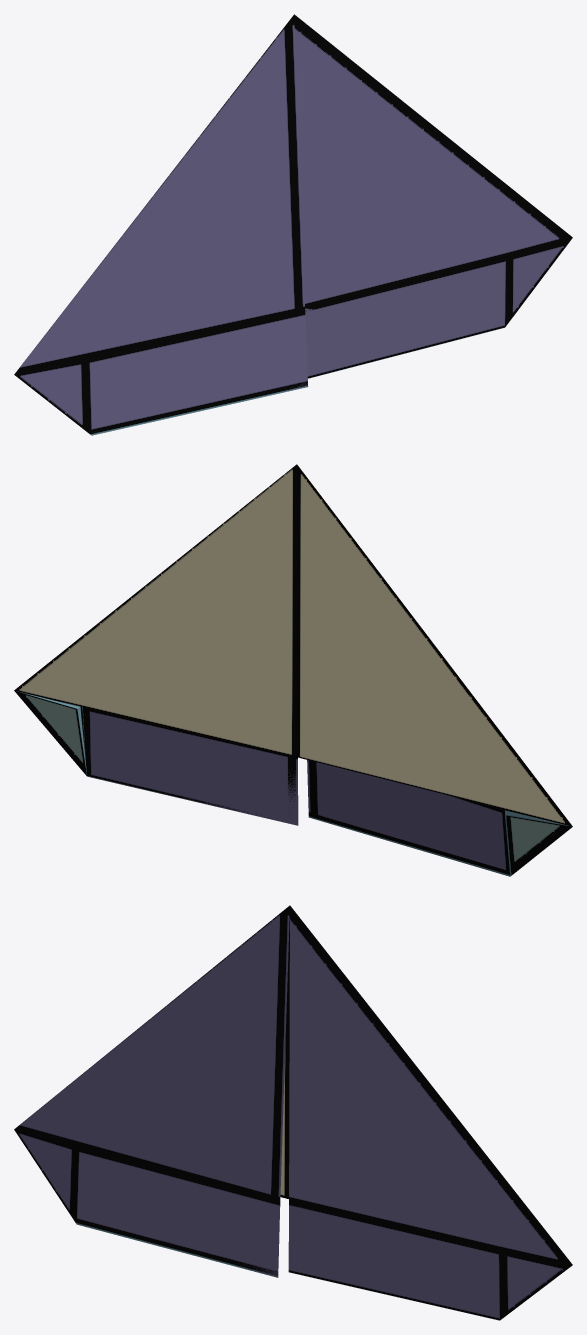
Rendered from 6_bottom_V2.fbx.
The picture shows the model from 3 angles, top to bottom: view 1: azimuth 30°, elevation 25°; view 2: azimuth 150°, elevation 25°; view 3: azimuth 330°, elevation 25°; orthographic projection.
Visible parts, largest first — view 1: Paper.005; view 2: Paper.005; view 3: Paper.005.
Boxes of the visible parts, x1,y1,x2,y2 form: Paper.005: (14, 14, 572, 435); Paper.005: (14, 464, 572, 876); Paper.005: (14, 905, 572, 1320).
Size of the model in its own units: 401 by 251 by 21.3.
